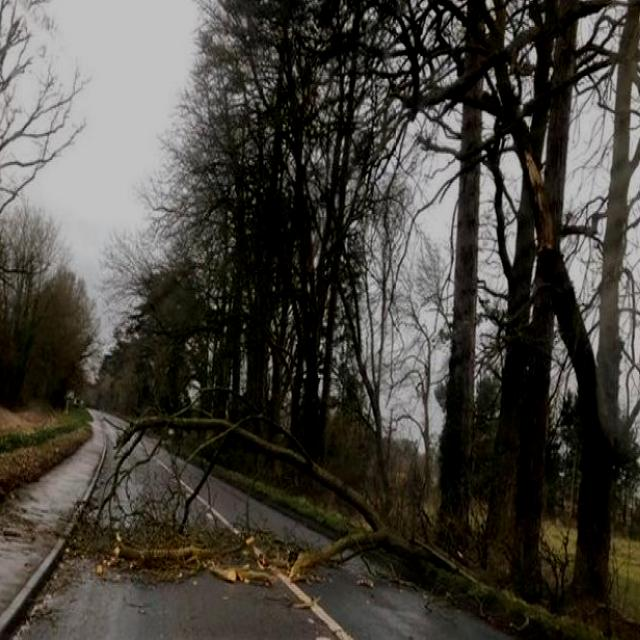fallen_object: (78, 380, 449, 622)
